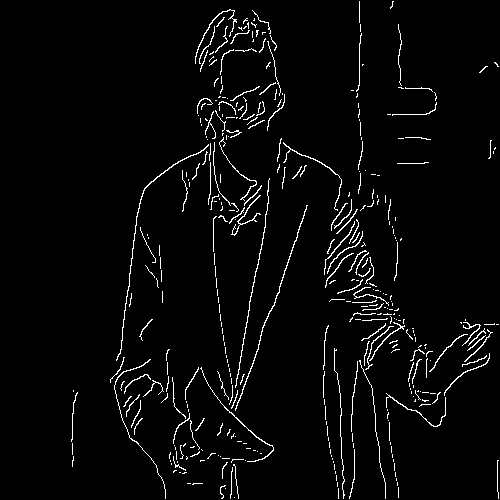mask: (220, 114, 286, 180)
